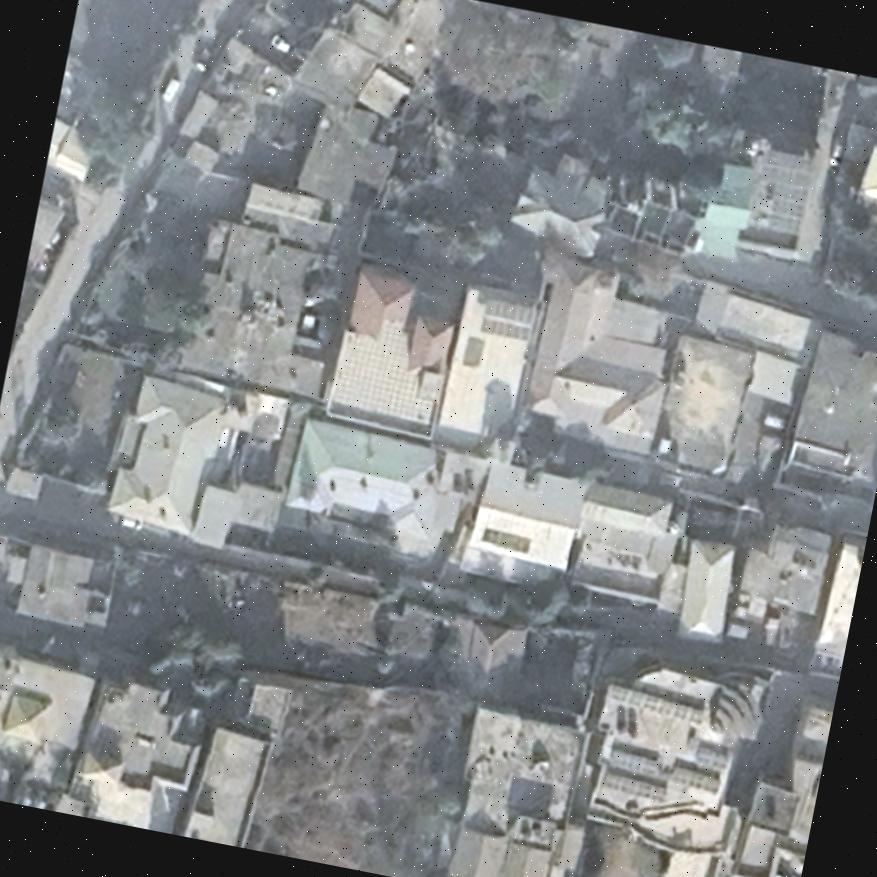Solarpanel: (478, 294, 538, 342), (478, 524, 532, 553)
